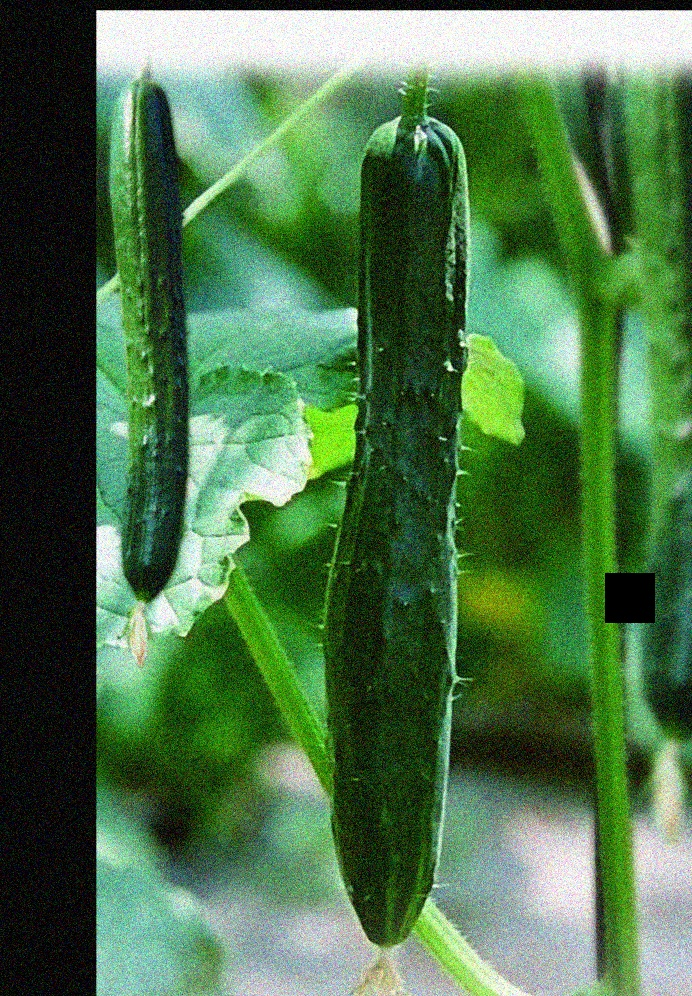cucumber: (310, 121, 488, 950), (103, 78, 201, 604)
